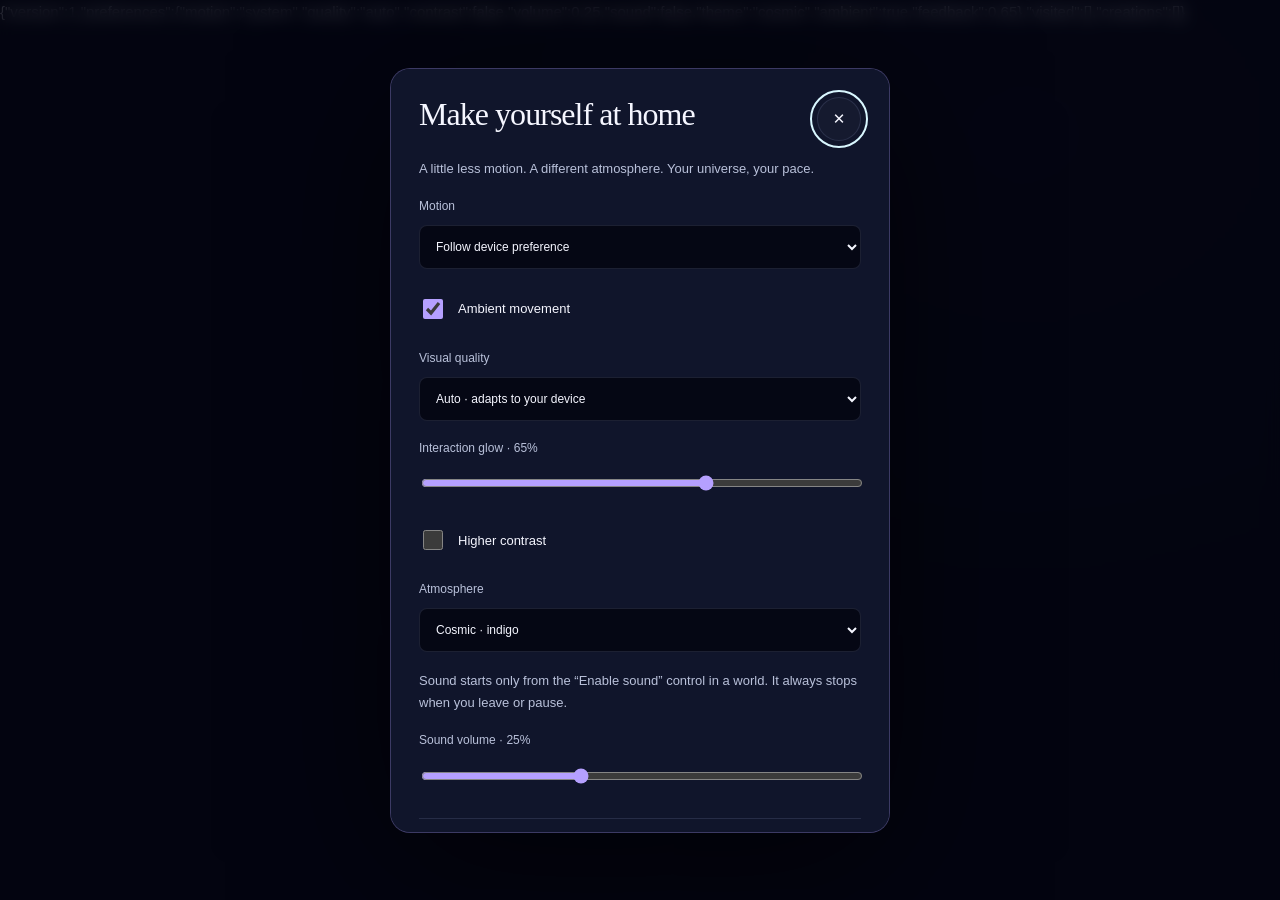
Test: requires explicit confirmation to clear local creations and preferences
Later steps or results of the test are not shown.
Click the checkbox labelled "Higher contrast" at (433, 540), box [423,530,443,550]
(page scrolled)
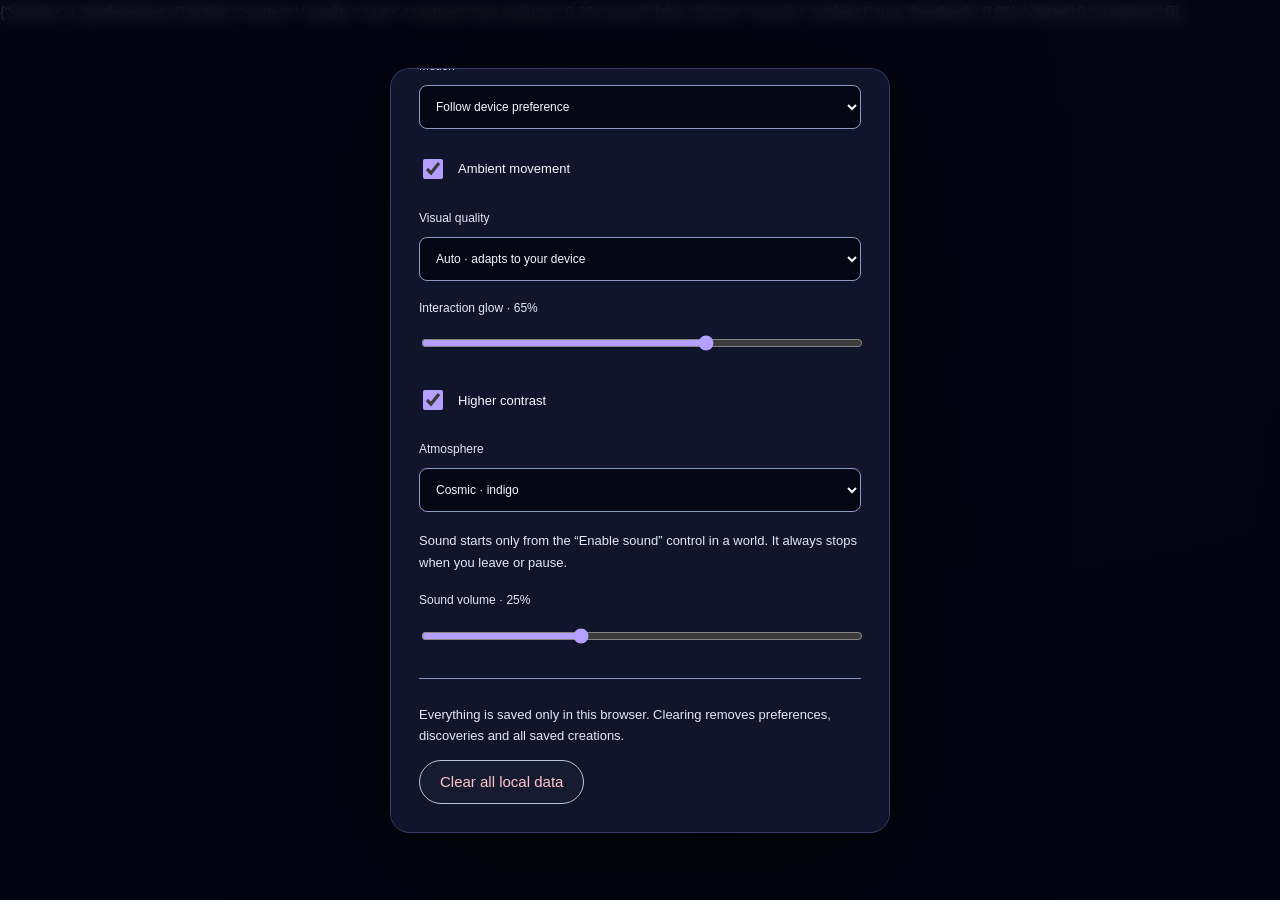
Click the button "Clear all local data" at (502, 782), box [419,760,584,804]
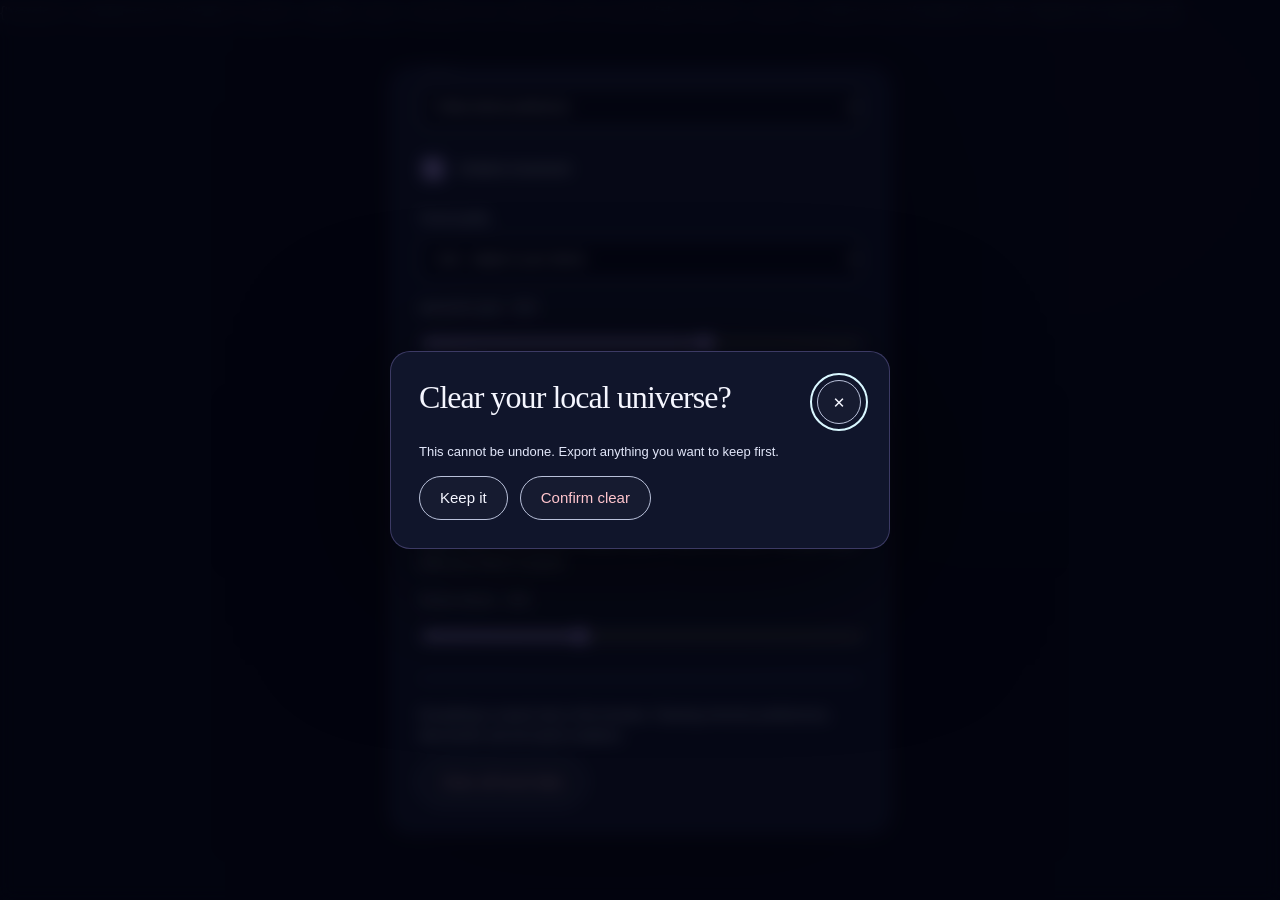
Expected: the heading "Clear your local universe?" is shown, [419,380,731,415]
